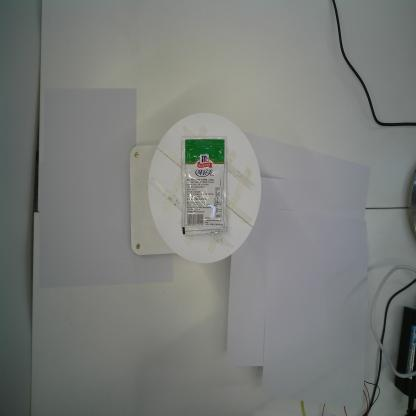Seasoner: (180, 134, 228, 238)
